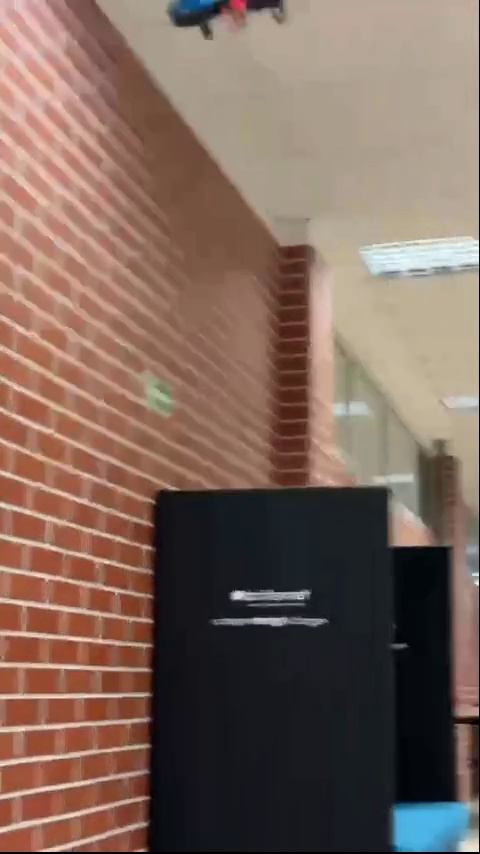drone: (158, 0, 300, 38)
